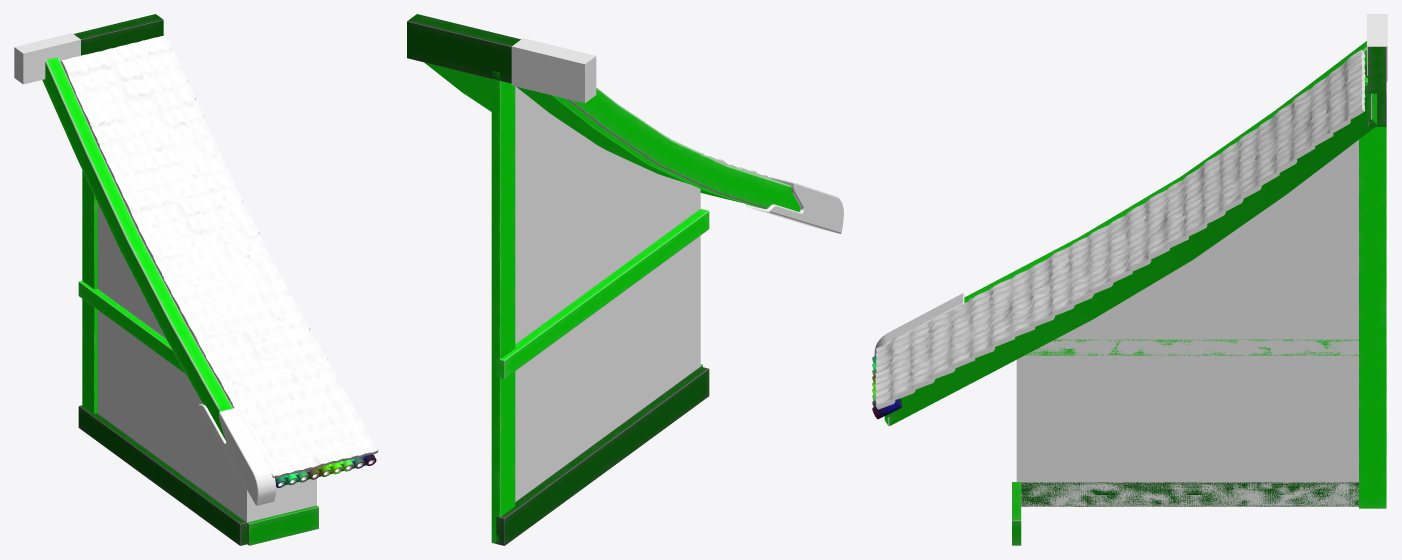
File: roof_100_01_left.fbx
The picture shows the model from 3 angles, left to right: view 1: azimuth 30°, elevation 25°; view 2: azimuth 150°, elevation 25°; view 3: azimuth 270°, elevation 25°; orthographic projection. The views are drawn at different scales.
Parts seen in each view (by area): view 1: roof_100_01_left; view 2: roof_100_01_left; view 3: roof_100_01_left.
Part boxes in pixels (box(x1,y1,x2,y2)): roof_100_01_left: box(14, 14, 378, 545); roof_100_01_left: box(407, 14, 843, 545); roof_100_01_left: box(872, 14, 1387, 545).
Bounding box in the file's own units: 2.01 × 5.41 × 5.58.
